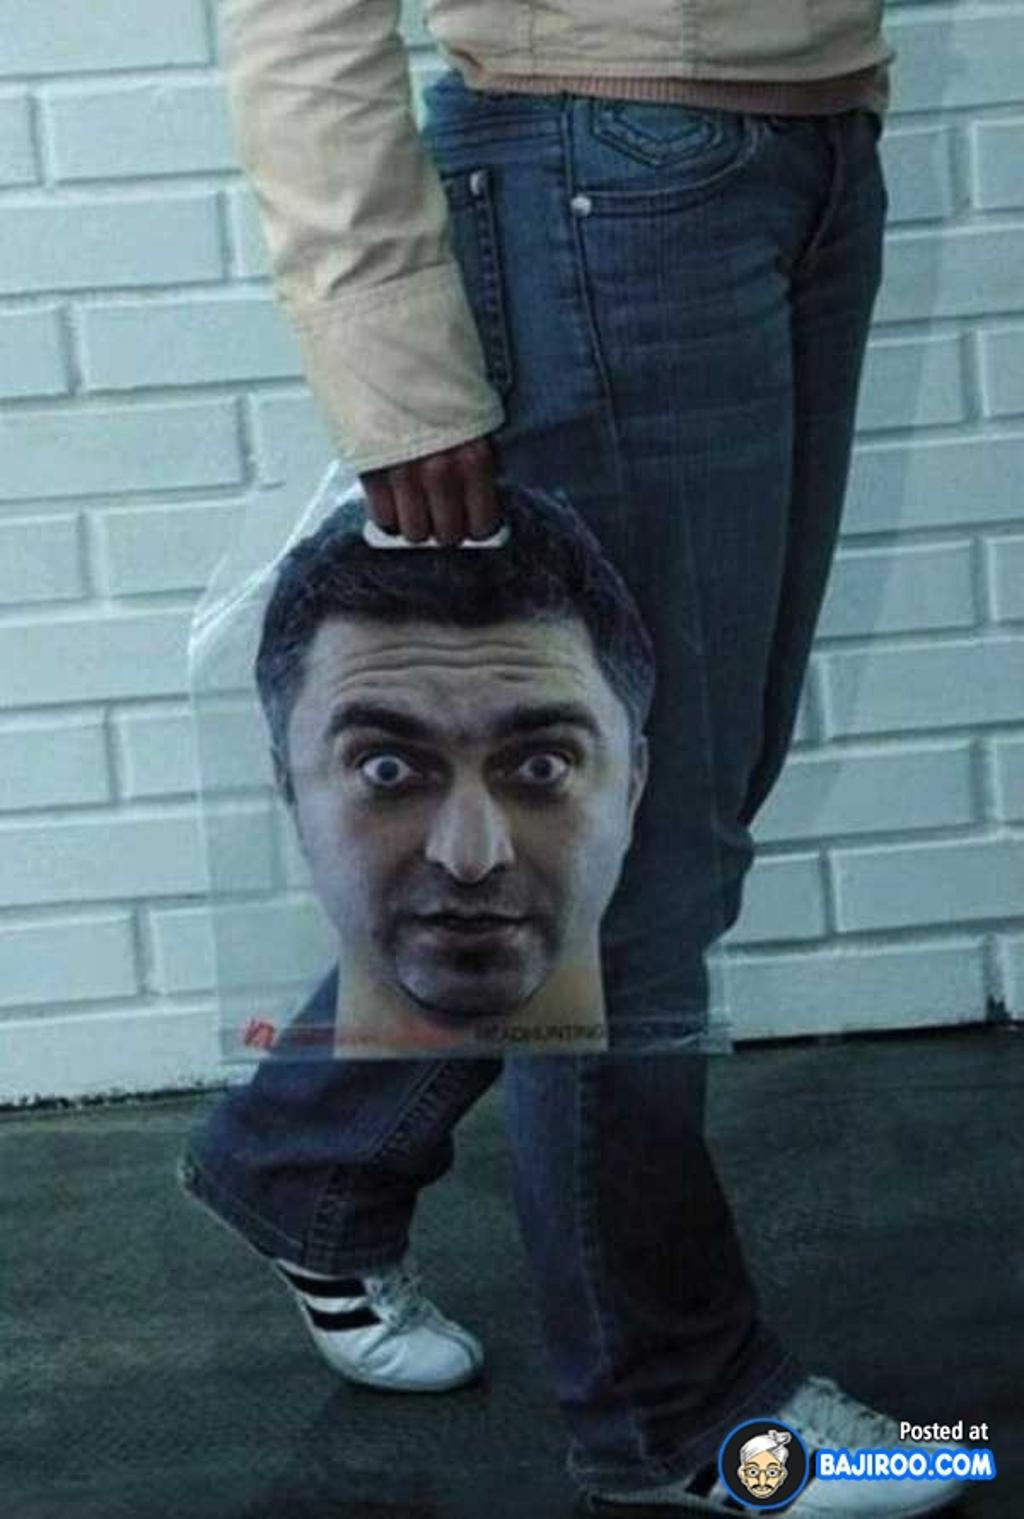face: (298, 630, 607, 1004)
